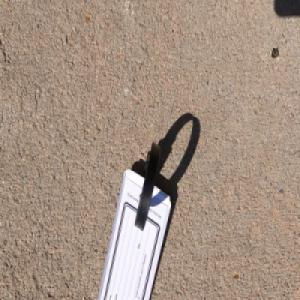LuggageTag: (95, 140, 171, 300)
